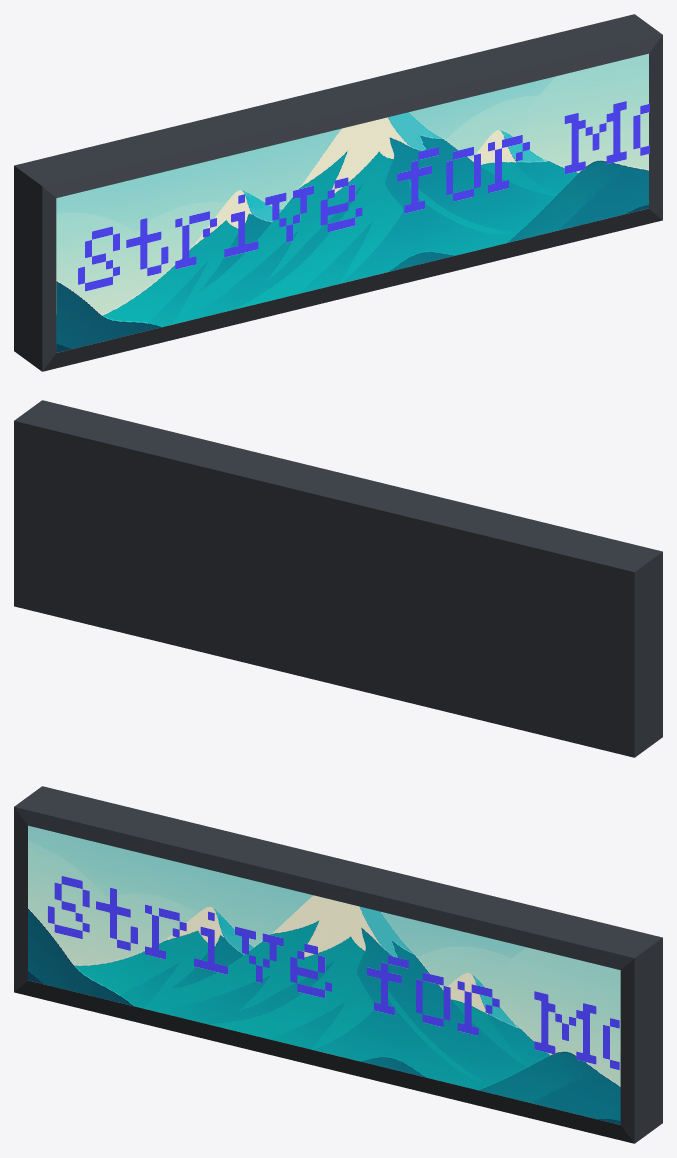
The model's file is faixa_4x1_03_pacote.glb.
3 views of the same model, one above another, from view 1: azimuth 30°, elevation 25°; view 2: azimuth 150°, elevation 25°; view 3: azimuth 330°, elevation 25° (orthographic).
Parts seen in each view (by area): view 1: faixa_4x1_03_pacote, letreiro_rolante; view 2: faixa_4x1_03_pacote; view 3: faixa_4x1_03_pacote, letreiro_rolante.
Part boxes in pixels (x1,y1,x2,y2): faixa_4x1_03_pacote: (14, 14, 662, 371); letreiro_rolante: (78, 101, 649, 291); faixa_4x1_03_pacote: (14, 400, 662, 757); faixa_4x1_03_pacote: (14, 786, 662, 1143); letreiro_rolante: (47, 876, 619, 1070).
Bounding box in the file's own units: 9.62 × 2.75 × 0.7873.
3 materials, 3 textured.
